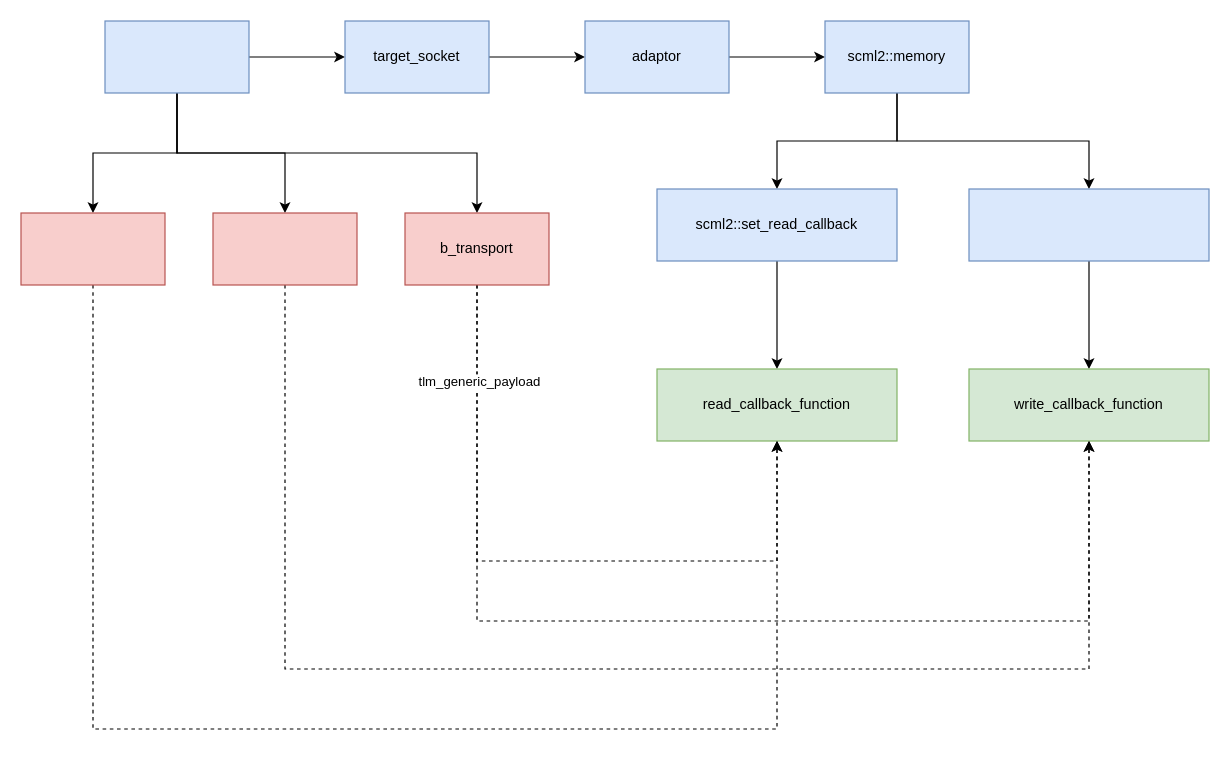
Some shapes in this 1230 by 760 pixel diagram are drawn without their labels. The centre of each missing label's shape, as x and y in pixels:
initiator_socket: point (176, 56)
read: point (92, 248)
scml2::set_write_callback: point (1088, 224)
write: point (284, 248)
